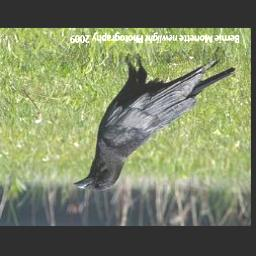Crow: (72, 51, 237, 192)
